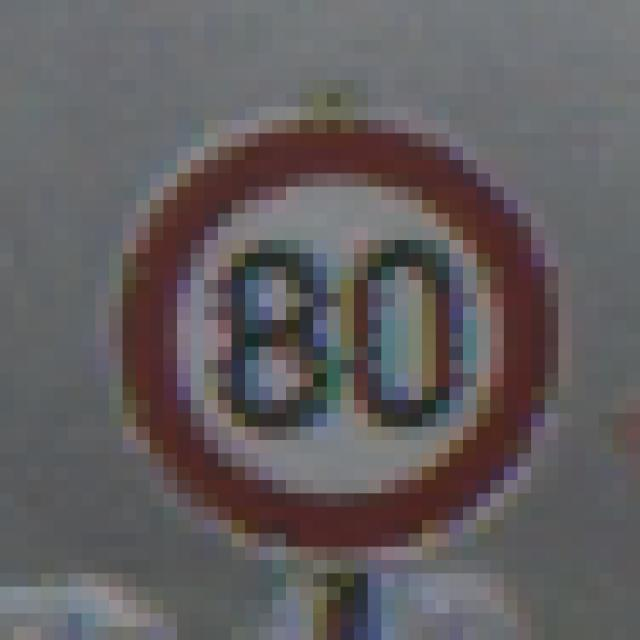Ograniczenie predkosci do 80: (113, 118, 561, 545)
